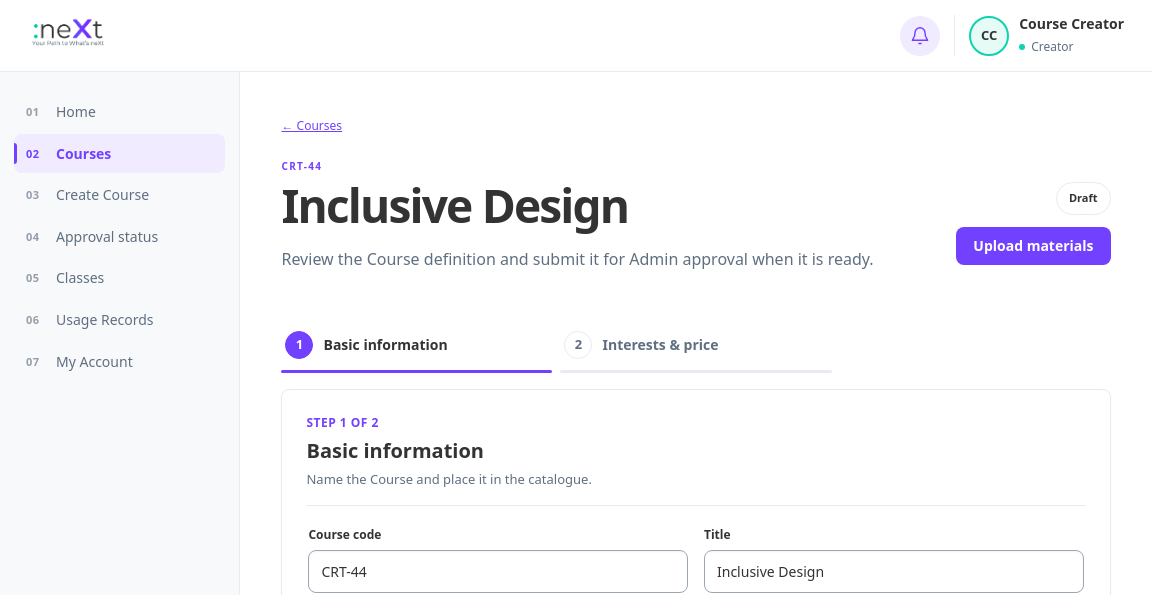
Creator Course workspace › submits a saved Draft for approval from the last step and locks editing
The width and height of the screenshot is (1152, 595).
Click the button "2 Interests & price" at (696, 347), box [560,321,832,373]
(page scrolled)
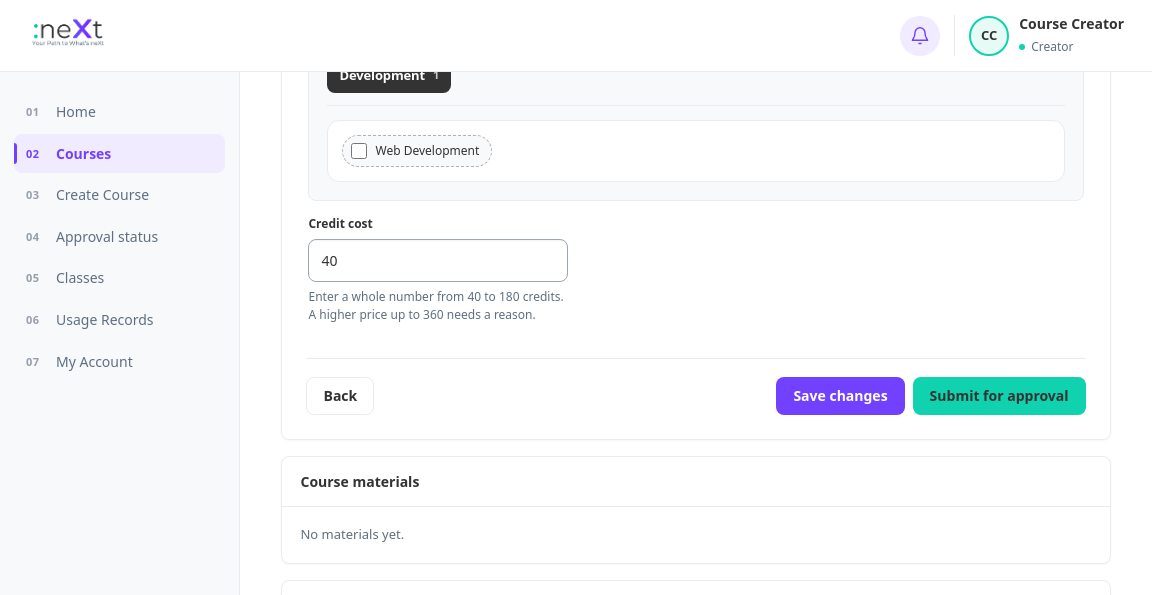
Click the button "Submit for approval" at (999, 396), box [913,377,1086,415]
(page scrolled)
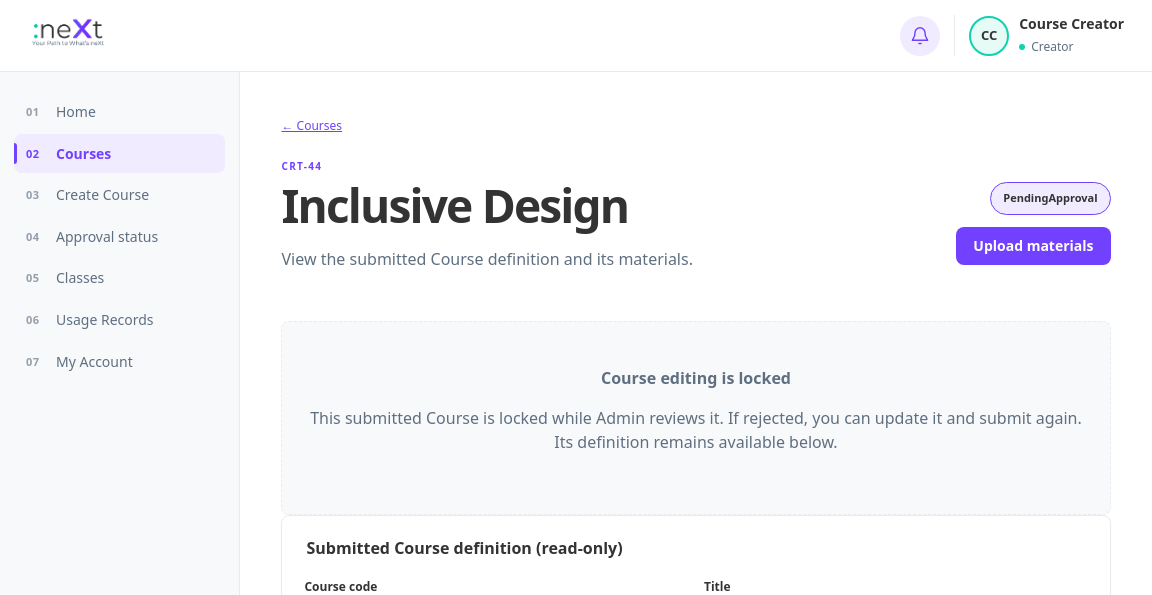
expect the text "PendingApproval" is shown: met, box [990,182,1111,215]
expect the button "Save changes" is gone: met
expect the button "Upload materials" is shown: met, box [956,227,1110,265]
